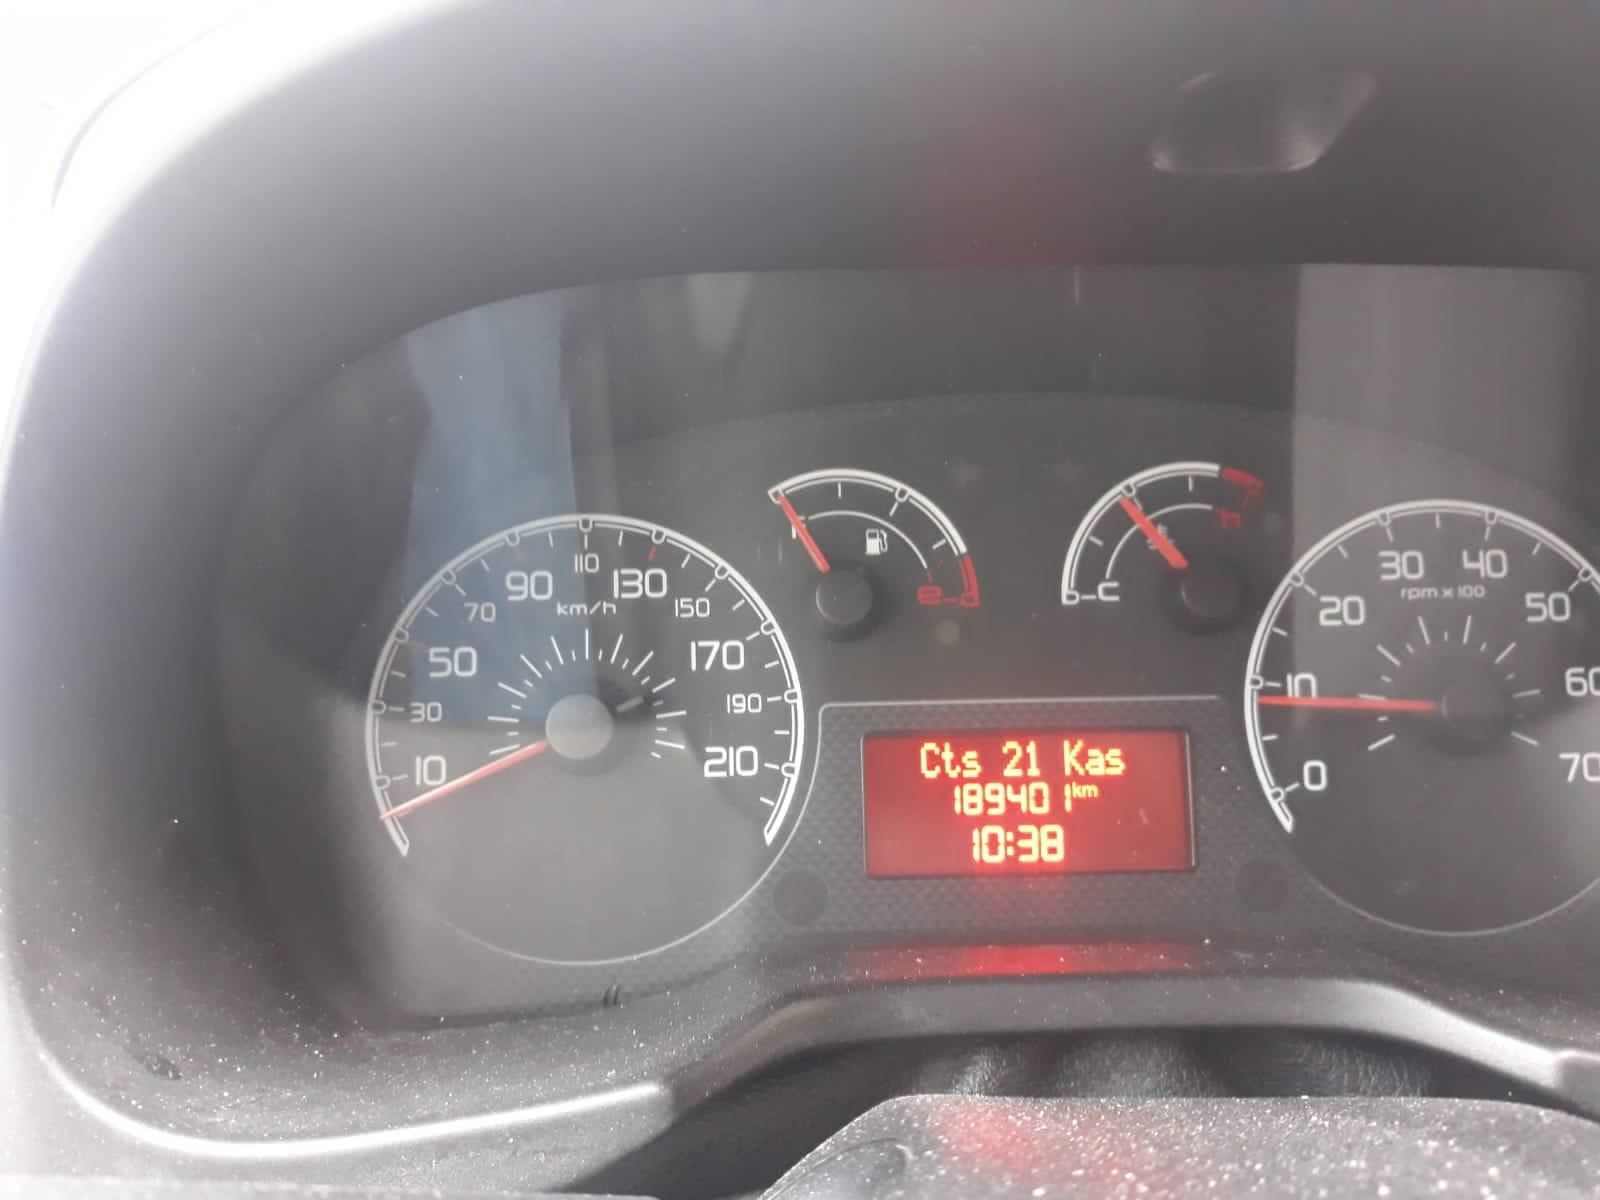0: (980, 824, 1005, 863), (1027, 780, 1049, 816)
1: (1026, 740, 1041, 776), (970, 827, 981, 863), (952, 783, 961, 816), (1063, 782, 1072, 812)
2: (1000, 740, 1026, 776)
3: (1015, 823, 1041, 862)
4: (1007, 782, 1028, 814)
8: (1041, 823, 1065, 863), (963, 782, 983, 816)
9: (983, 782, 1007, 816)
X: (918, 741, 941, 779), (1063, 739, 1086, 776), (942, 741, 961, 779), (1104, 747, 1126, 776), (961, 750, 981, 778), (1086, 747, 1105, 776), (1005, 831, 1015, 857), (1082, 783, 1099, 798), (1071, 780, 1082, 798)
odometer: (858, 724, 1197, 884)
